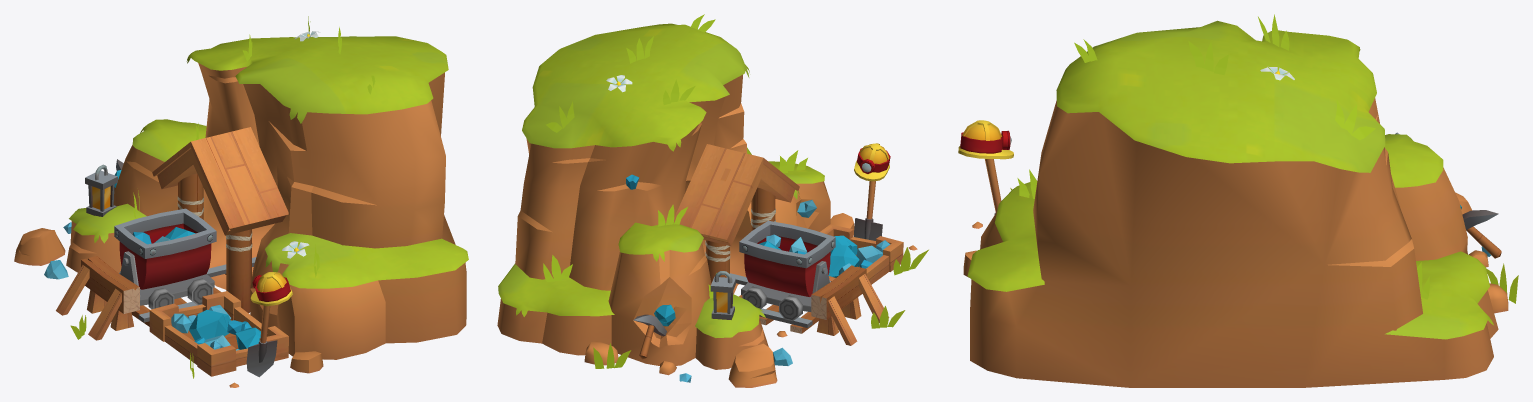
The model's file is B_Mine.fbx.
The picture shows the model from 3 angles, left to right: view 1: azimuth 30°, elevation 25°; view 2: azimuth 150°, elevation 25°; view 3: azimuth 270°, elevation 25°; orthographic projection. The views are drawn at different scales.
Visible parts, largest first — view 1: B_Mine; view 2: B_Mine; view 3: B_Mine.
Part boxes in pixels (<box>): B_Mine: <box>14,16,468,387</box>; B_Mine: <box>497,14,928,387</box>; B_Mine: <box>958,14,1518,387</box>.
Bounding box in the file's own units: 14.86 × 9.58 × 15.28.
